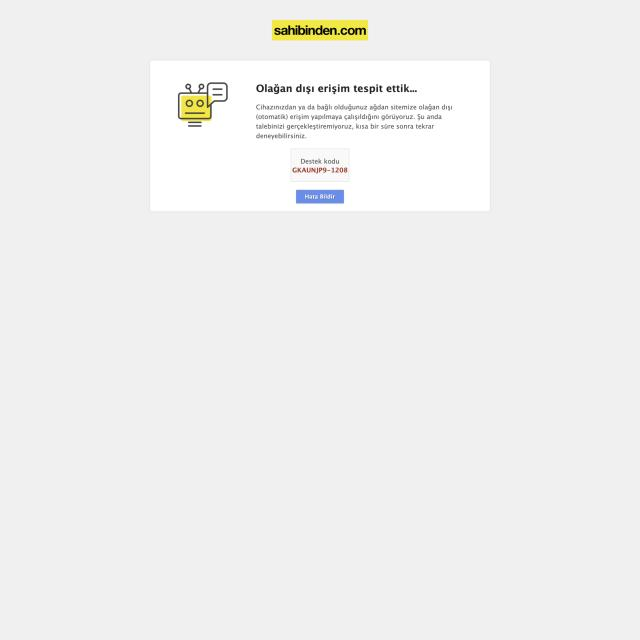logo: (272, 19, 368, 41)
